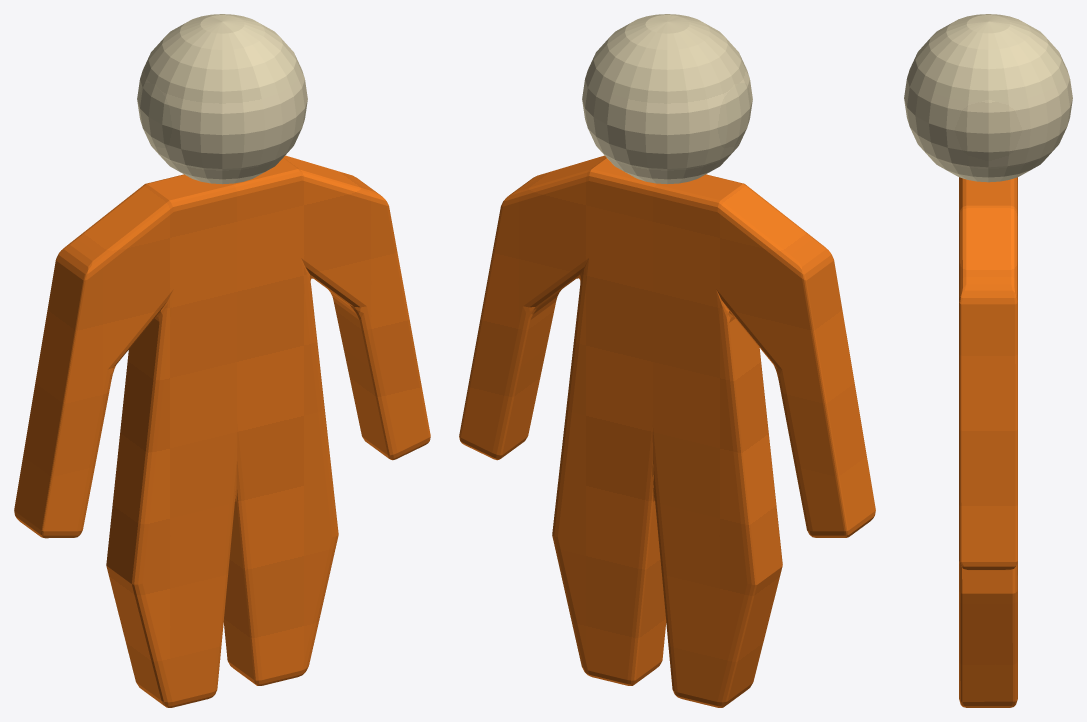
File: paper_walker.gltf
3 renders of one model, left to right at view 1: azimuth 30°, elevation 25°; view 2: azimuth 150°, elevation 25°; view 3: azimuth 270°, elevation 25°, orthographic.
Visible parts, largest first — view 1: V14_paper_walker; view 2: V14_paper_walker; view 3: V14_paper_walker.
Boxes of the visible parts, x1,y1,x2,y2 form: V14_paper_walker: (14,14,430,707); V14_paper_walker: (459,14,875,707); V14_paper_walker: (904,14,1072,707).
Bounding box in the file's own units: 1.21 × 1.97 × 0.46.
2 materials, 2 textured.
